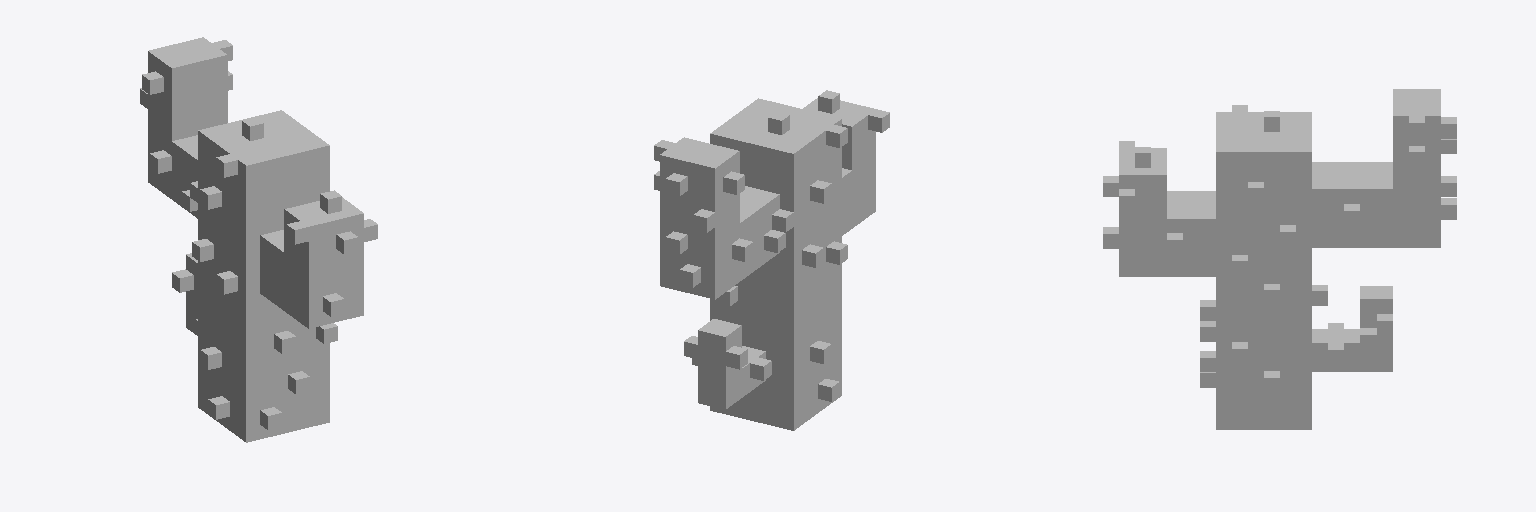
The model's file is cactus_1.obj.
3 renders of one model, left to right at view 1: azimuth 30°, elevation 25°; view 2: azimuth 150°, elevation 25°; view 3: azimuth 270°, elevation 25°, orthographic.
Visible parts, largest first — view 1: object 1; view 2: object 1; view 3: object 1.
Part boxes in pixels (left/top/right/bottom): object 1: left=140, top=37, right=377, bottom=442; object 1: left=654, top=90, right=889, bottom=430; object 1: left=1103, top=89, right=1456, bottom=429.
Bounding box in the file's own units: 0.8 × 2.1 × 2.2.